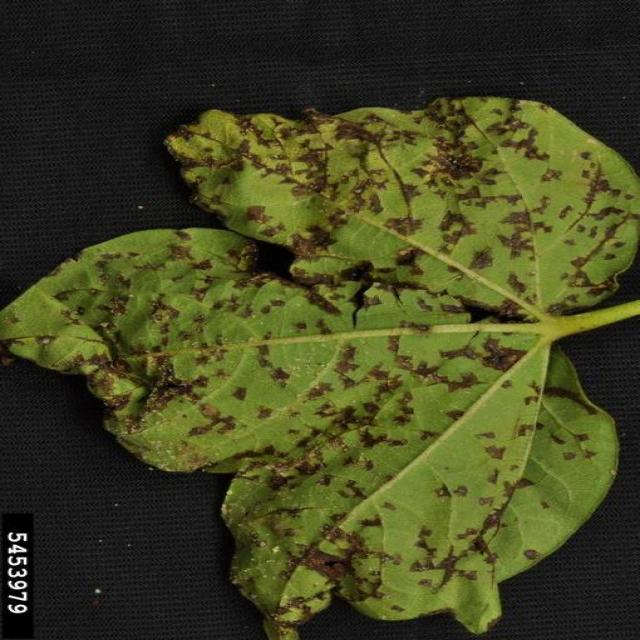Bacterial Blight: (39, 110, 609, 572)
